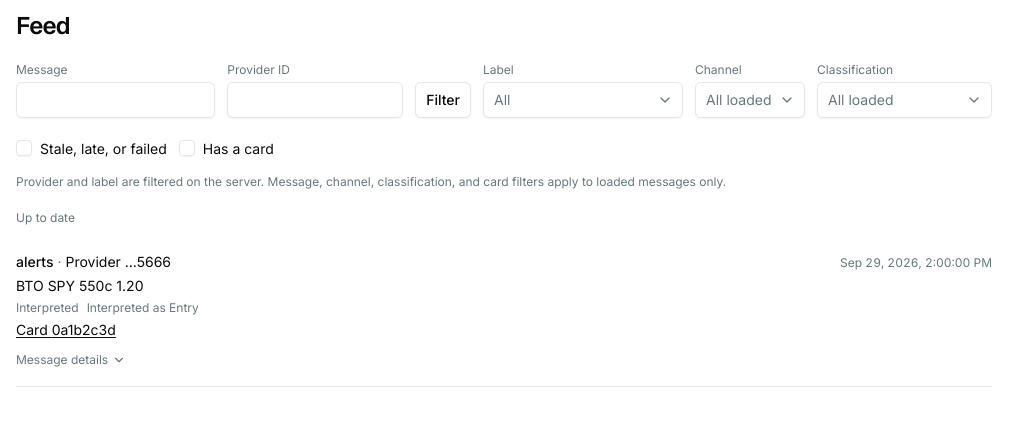
Test: feed screen › rejects a non-numeric provider id without a request
Check: the text "BTO SPY 550c 1.20" is shown, box [16,277,144,294]
In the field labelled "Provider ID": (315, 100) [227,82,403,118], type "abc"
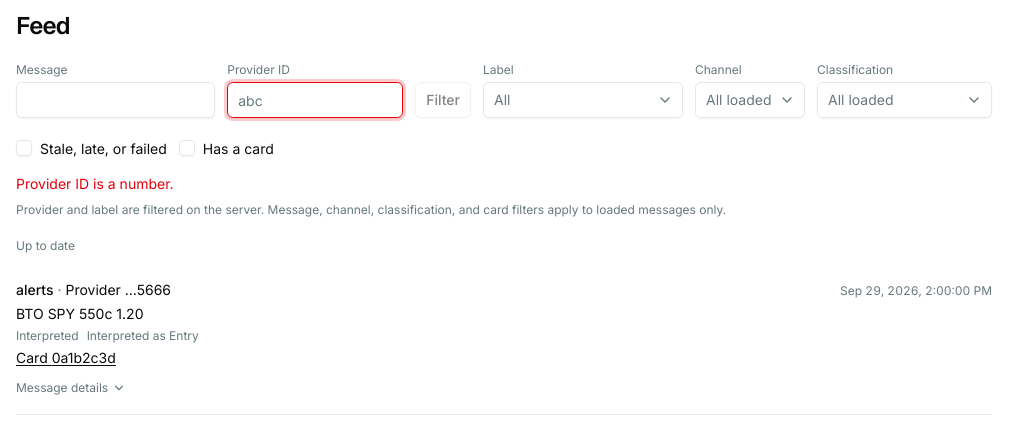
Check: the message "Provider ID is a number." is shown, box [16,175,174,192]
Check: the button "Filter" is disabled, box [415,82,471,118]
